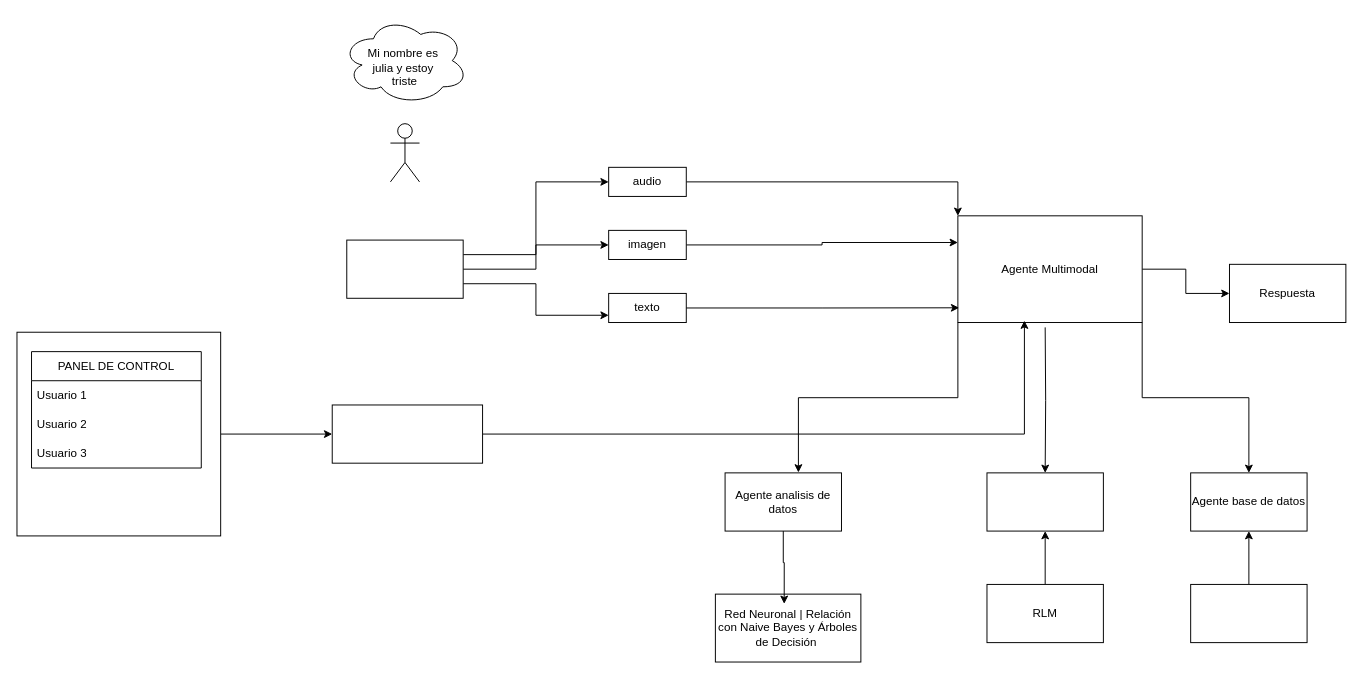
Some shapes in this 1363 by 679 pixel diagram are drawn without their labels. The box of each missing label's shape, as (x1, y1, x2, y2) in pixels:
Actor: (389, 123, 420, 182)
Agente recursos interactivos (apoyo terapeutico): (986, 472, 1103, 531)
APP WEB: (346, 239, 463, 298)
HL: (1190, 583, 1307, 643)
LMM- GUARDA DATA EN BD EN POSGRES: (331, 404, 483, 463)
